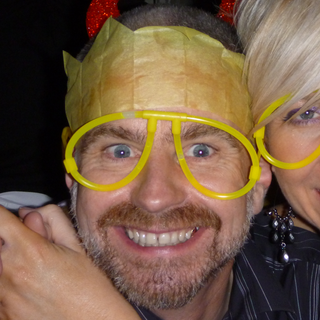eye: (277, 104, 320, 129), (96, 140, 139, 164), (185, 139, 226, 164)
